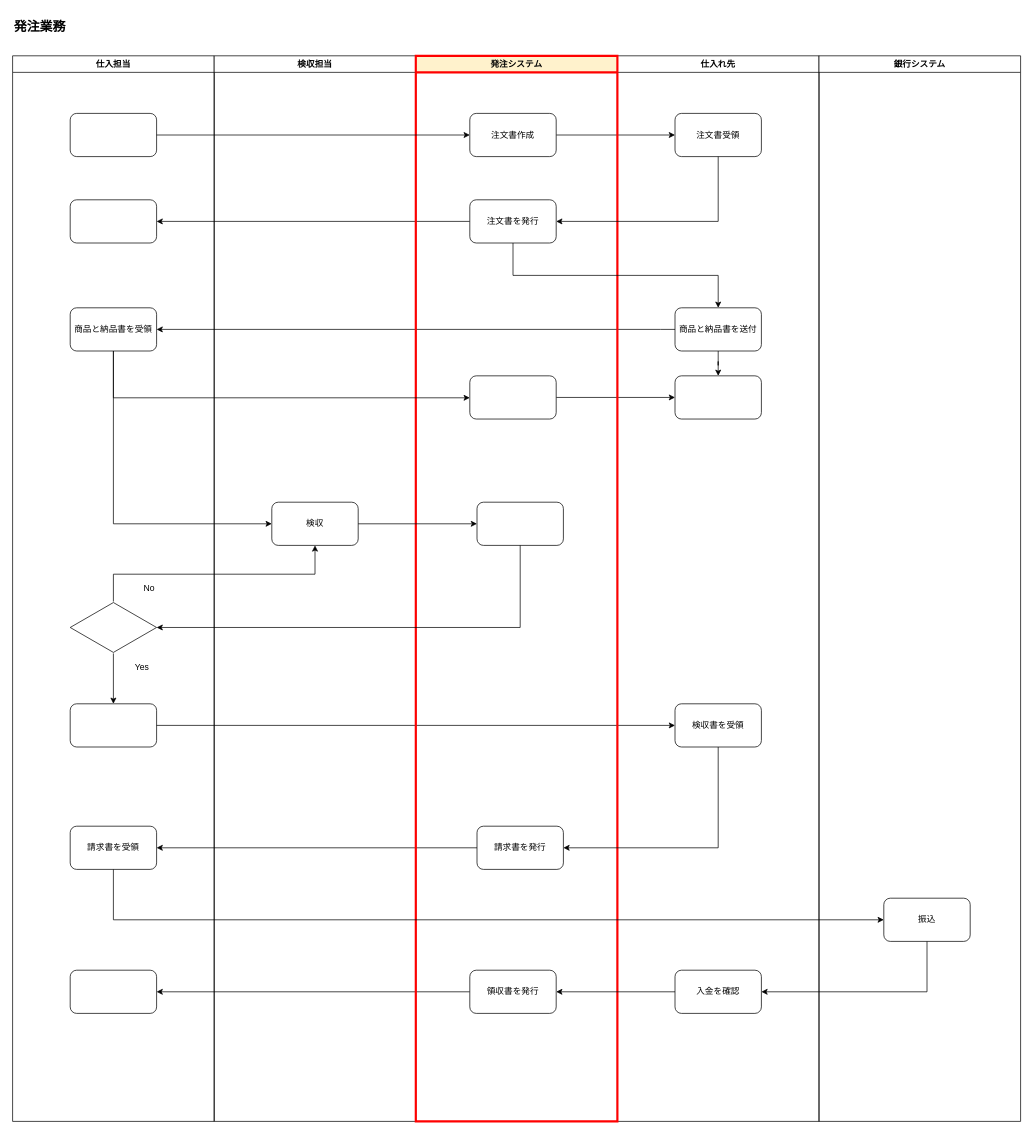
This 1033x1135 diagram has some shape labels left out. Here are the shapes that lost their labels. From the top down, the centre of each, then its label:
(113,135): 発注したい商品 リストアップ
(113,221): 注文請書
(512,397): 受領証を作成
(717,397): 受領証を受領
(519,523): 検収書作成
(113,627): 承認
(113,725): 検収書を送付
(113,991): 領収書を受領
